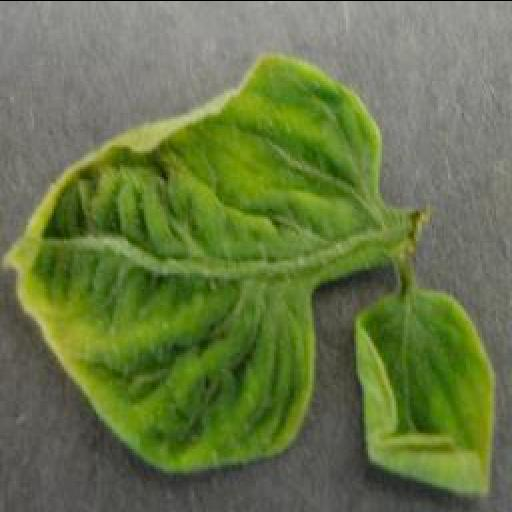disease_tomato: (4, 48, 378, 477), (354, 289, 492, 498)
